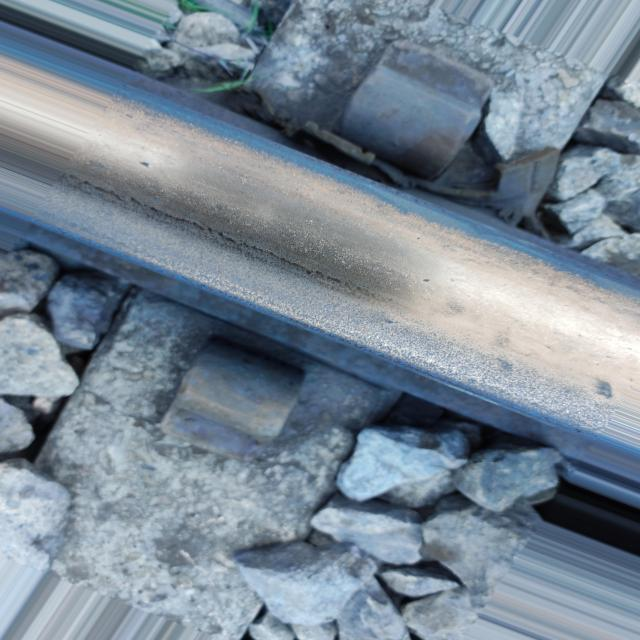Missing Fastener: (133, 325, 333, 488), (316, 29, 518, 177)
